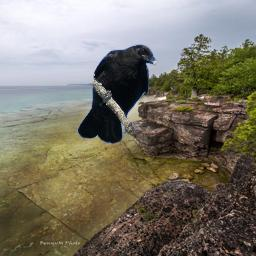Crow: (77, 44, 158, 145)
